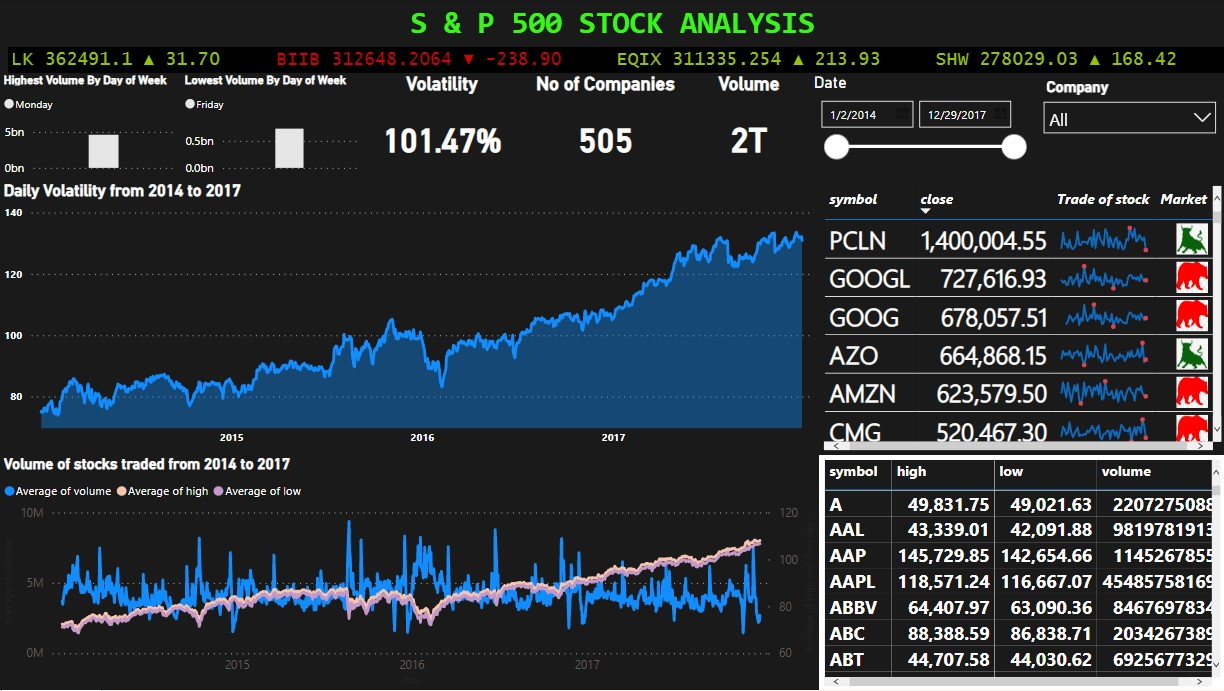

What the dashboard file says about the page in this screenshot:
{"tool":"powerbi","page":{"name":"Dashboard","canvas":[1280,720],"ordinal":0},"visuals":[{"type":"card","title":"No of Companies","fields":{"Values":["Count(S&P 500 Stock Prices 2014-2017.symbol)"]},"box":[545.7,76.2,174.3,112.7],"z":0},{"type":"card","title":"Volume","fields":{"Values":["Sum(S&P 500 Stock Prices 2014-2017.volume)"]},"box":[720,76.2,125.2,112.7],"z":1000},{"type":"card","title":"Volatility","fields":{"Values":["Calculation.Volatility%"]},"box":[378.8,76.2,167,112.7],"z":2000},{"type":"slicer","title":"Date","fields":{"Values":["S&P 500 Stock Prices 2014-2017.date"]},"box":[845.2,76.2,234.8,112.7],"z":3000},{"type":"slicer","fields":{"Values":["S&P 500 Stock Prices 2014-2017.symbol"]},"box":[1080,76.2,200.3,112.7],"z":4000},{"type":"ScrollingTextVisual1448795304508","fields":{"Category":["S&P 500 Stock Prices 2014-2017.symbol"],"Measure Deviation":["Sum(S&P 500 Stock Prices 2014-2017.Open-close)"],"Measure Absolute":["Sum(S&P 500 Stock Prices 2014-2017.close)"]},"box":[9.4,49,1271,27.1],"z":5000},{"type":"textbox","box":[0,0,1280.3,49],"z":6000},{"type":"columnChart","title":"Highest Volume By Day of Week","fields":{"Y":["Sum(S&P 500 Stock Prices 2014-2017.volume)"],"Series":["S&P 500 Stock Prices 2014-2017.DAY"]},"box":[0,76.2,188.9,112.7],"z":7000},{"type":"columnChart","title":"Lowest Volume By Day of Week","fields":{"Y":["Sum(S&P 500 Stock Prices 2014-2017.volume)"],"Series":["S&P 500 Stock Prices 2014-2017.DAY"]},"box":[188.9,76.2,189.9,112.7],"z":8000},{"type":"lineChart","title":"Volume of stocks traded from 2014 to 2017","fields":{"Category":["S&P 500 Stock Prices 2014-2017.date"],"Y":["Avg(S&P 500 Stock Prices 2014-2017.volume)"],"Y2":["Avg(S&P 500 Stock Prices 2014-2017.high)","Avg(S&P 500 Stock Prices 2014-2017.low)"]},"box":[0,474.4,855.6,245.6],"z":9000},{"type":"tableEx","fields":{"Values":["S&P 500 Stock Prices 2014-2017.symbol","Sum(S&P 500 Stock Prices 2014-2017.close)","SparklineData(Sum(S&P 500 Stock Prices 2014-2017.Percentage)_[S&P 500 Stock Prices 2014-2017.date])","Avg(S&P 500 Stock Prices 2014-2017.Percentage)"]},"box":[855.7,188.9,424.7,285.9],"z":10000},{"type":"tableEx","fields":{"Values":["S&P 500 Stock Prices 2014-2017.symbol","Sum(S&P 500 Stock Prices 2014-2017.high)","Sum(S&P 500 Stock Prices 2014-2017.low)","Sum(S&P 500 Stock Prices 2014-2017.volume)"]},"box":[855.6,474.4,424.4,245.6],"z":11000},{"type":"areaChart","title":"Daily Volatility from 2014 to 2017","fields":{"Category":["S&P 500 Stock Prices 2014-2017.date"],"Y":["Calculation.Volatility"]},"box":[0,188.9,855.6,285.6],"z":12000}]}

Visuals, with their boxes in screenshot pixels (x1, y1, x2, y2), scaled from the page's 1280x720 canvas onto the 1224x691 screenshot:
"No of Companies" card: {"x1": 522, "y1": 73, "x2": 688, "y2": 181}
"Volume" card: {"x1": 688, "y1": 73, "x2": 808, "y2": 181}
"Volatility" card: {"x1": 362, "y1": 73, "x2": 522, "y2": 181}
"Date" slicer: {"x1": 808, "y1": 73, "x2": 1033, "y2": 181}
slicer - S&P 500 Stock Prices 2014-2017.symbol: {"x1": 1033, "y1": 73, "x2": 1223, "y2": 181}
ScrollingTextVisual1448795304508 - S&P 500 Stock Prices 2014-2017.symbol x Sum(S&P 500 Stock Prices 2014-2017.Open-close): {"x1": 9, "y1": 47, "x2": 1223, "y2": 73}
textbox: {"x1": 0, "y1": 0, "x2": 1223, "y2": 47}
"Highest Volume By Day of Week" columnChart: {"x1": 0, "y1": 73, "x2": 181, "y2": 181}
"Lowest Volume By Day of Week" columnChart: {"x1": 181, "y1": 73, "x2": 362, "y2": 181}
"Volume of stocks traded from 2014 to 2017" lineChart: {"x1": 0, "y1": 455, "x2": 818, "y2": 690}
tableEx - S&P 500 Stock Prices 2014-2017.symbol x Sum(S&P 500 Stock Prices 2014-2017.close): {"x1": 818, "y1": 181, "x2": 1223, "y2": 456}
tableEx - S&P 500 Stock Prices 2014-2017.symbol x Sum(S&P 500 Stock Prices 2014-2017.high): {"x1": 818, "y1": 455, "x2": 1223, "y2": 690}
"Daily Volatility from 2014 to 2017" areaChart: {"x1": 0, "y1": 181, "x2": 818, "y2": 455}
